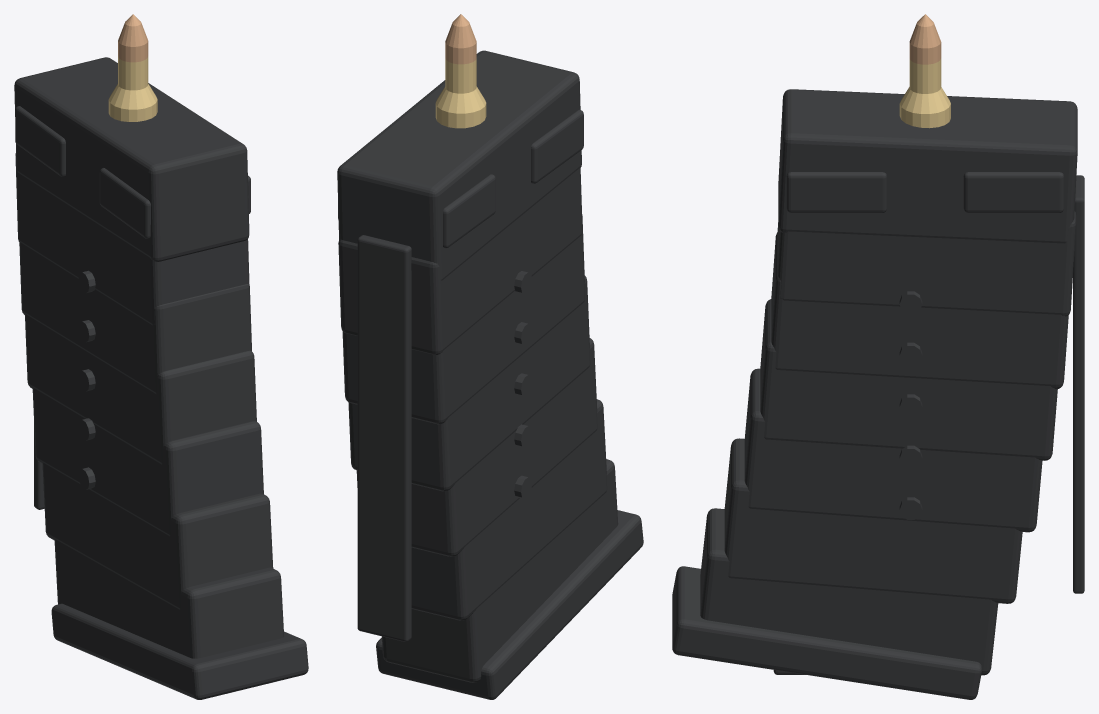
Rendered from mod-carbine-magazine-native-magazine.glb.
The picture shows the model from 3 angles, left to right: view 1: azimuth 30°, elevation 25°; view 2: azimuth 150°, elevation 25°; view 3: azimuth 270°, elevation 25°; orthographic projection. The views are drawn at different scales.
Size of the model in its own units: 0.5568 by 2.94 by 1.67.
